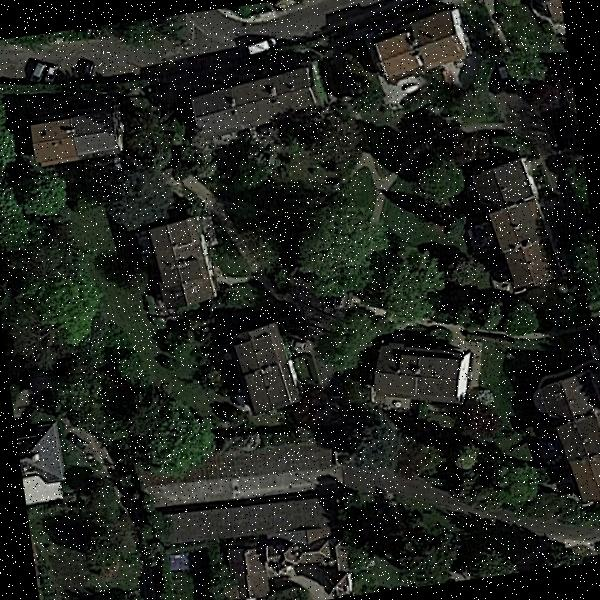Buildings: (485, 157, 552, 306), (191, 67, 314, 134), (366, 11, 473, 84), (370, 334, 470, 408), (546, 374, 600, 509), (539, 0, 565, 37)
